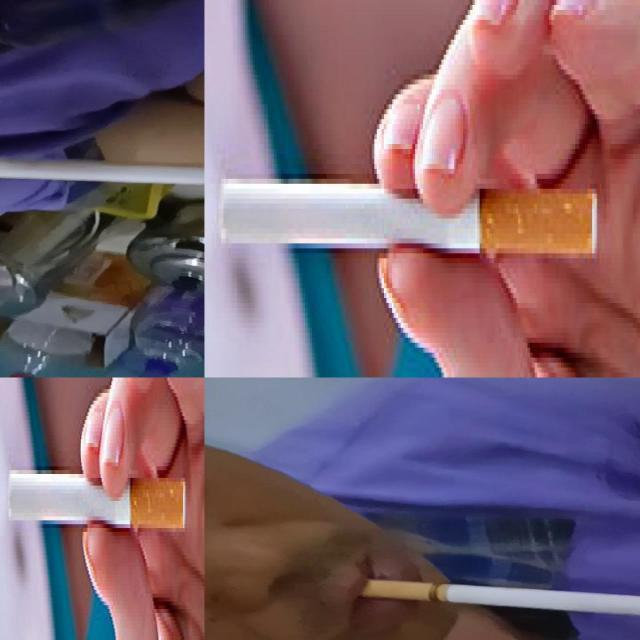cigarette: (218, 178, 598, 258), (361, 578, 639, 620), (7, 466, 185, 524), (0, 150, 204, 190)
